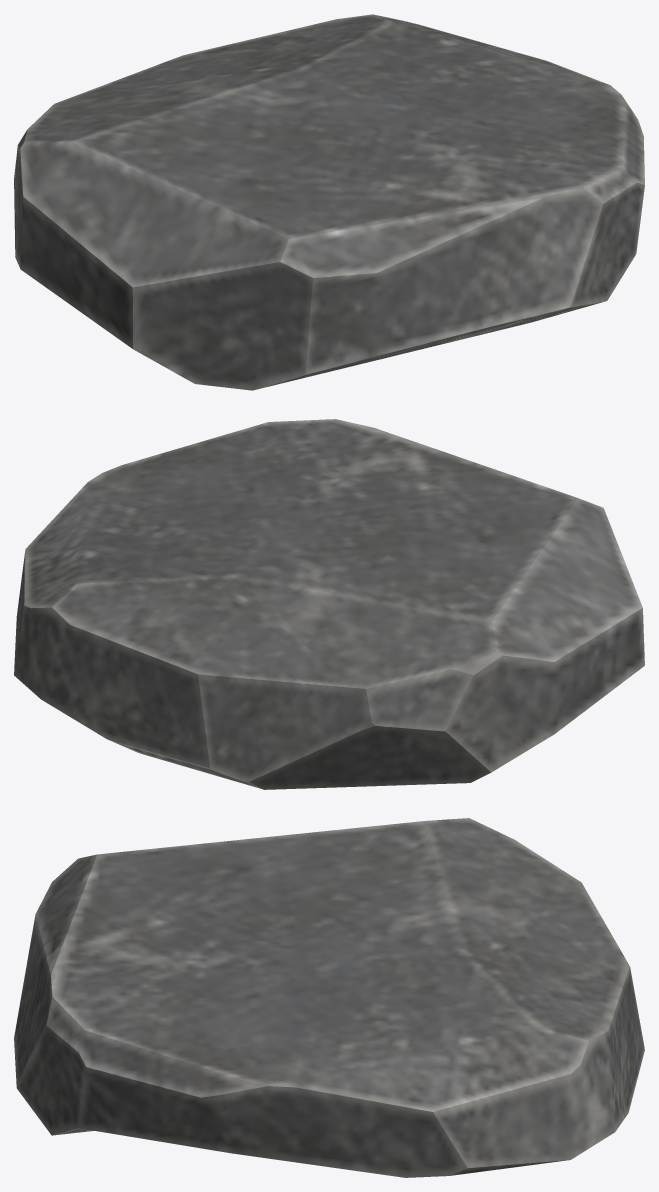
File: Rock06_Dream.glb
The picture shows the model from 3 angles, top to bottom: view 1: azimuth 30°, elevation 25°; view 2: azimuth 150°, elevation 25°; view 3: azimuth 270°, elevation 25°; orthographic projection. The views are drawn at different scales.
Visible parts, largest first — view 1: rock06_dream; view 2: rock06_dream; view 3: rock06_dream.
Part boxes in pixels (<box>): rock06_dream: <box>14,14,644,390</box>; rock06_dream: <box>14,419,644,789</box>; rock06_dream: <box>14,818,644,1177</box>.
Size of the model in its own units: 0.5742 by 0.1448 by 0.548.
Materials: 1 (1 with a texture image).
